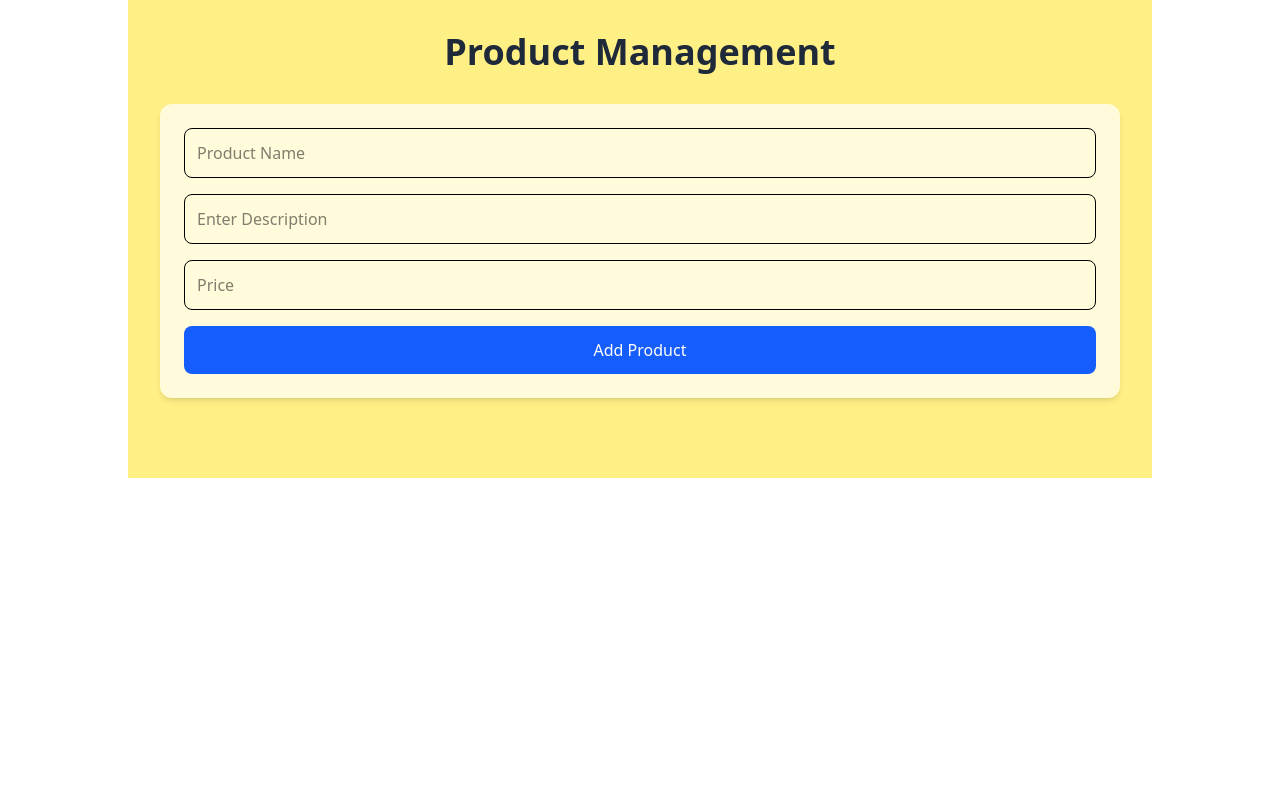
Products › Add New Products works correctly
This screenshot has width=1280, height=800.
Click the button with test id "submitForm" at point(640, 350), box [184,326,1096,374]
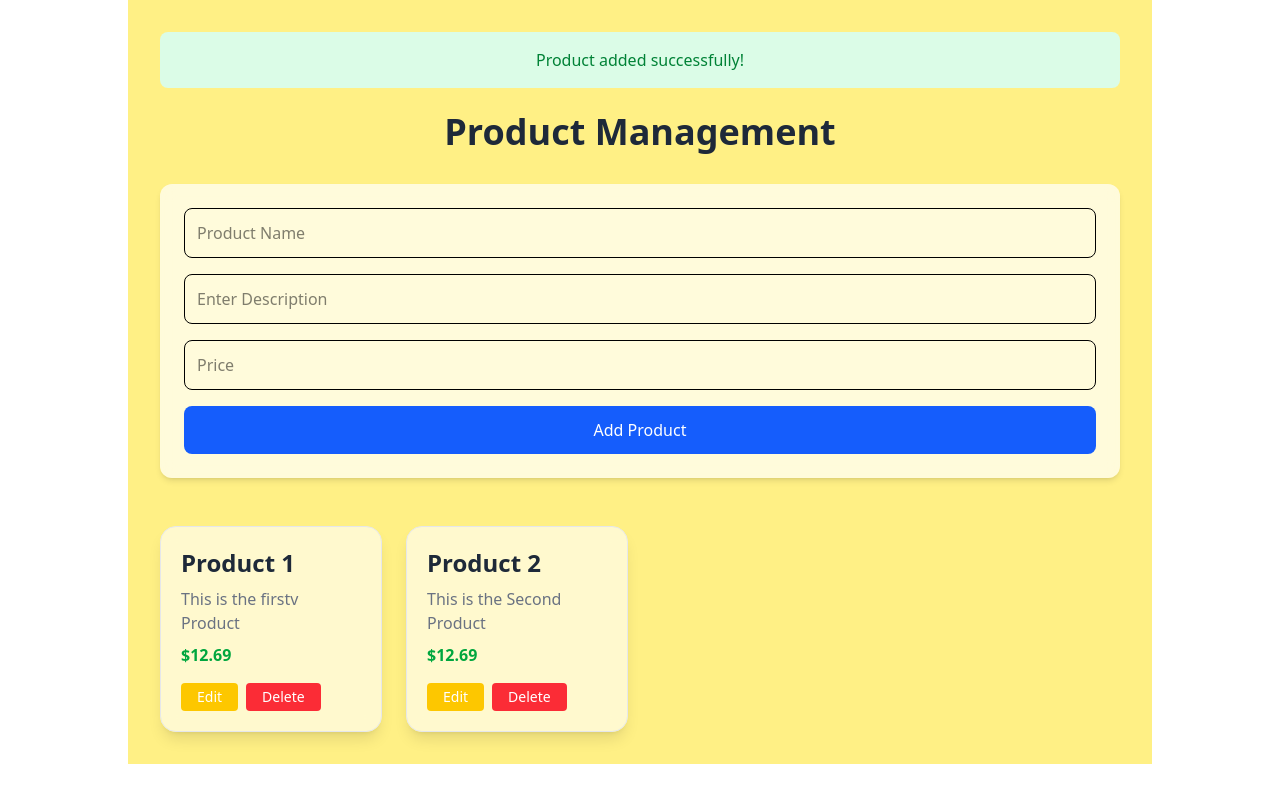
Now the text "Product added successfully!" is shown, box [160,32,1120,88]
